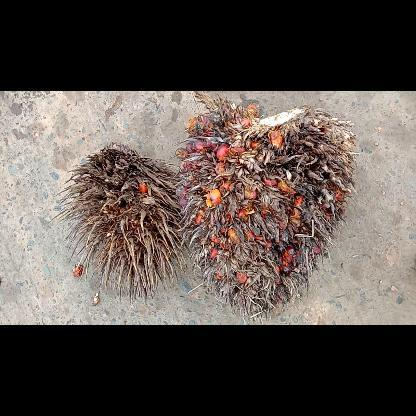Janjang kosong: (56, 144, 190, 302)
Terlalu masak: (172, 90, 356, 324)
